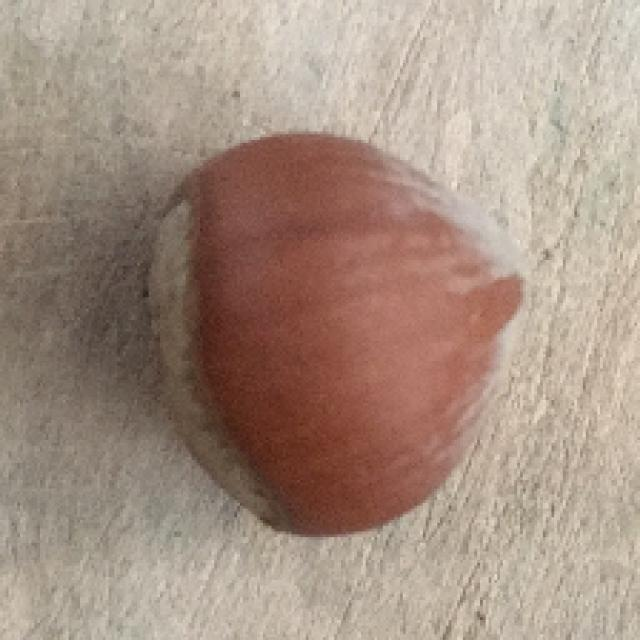qualityHazelnut: (146, 127, 538, 547)
